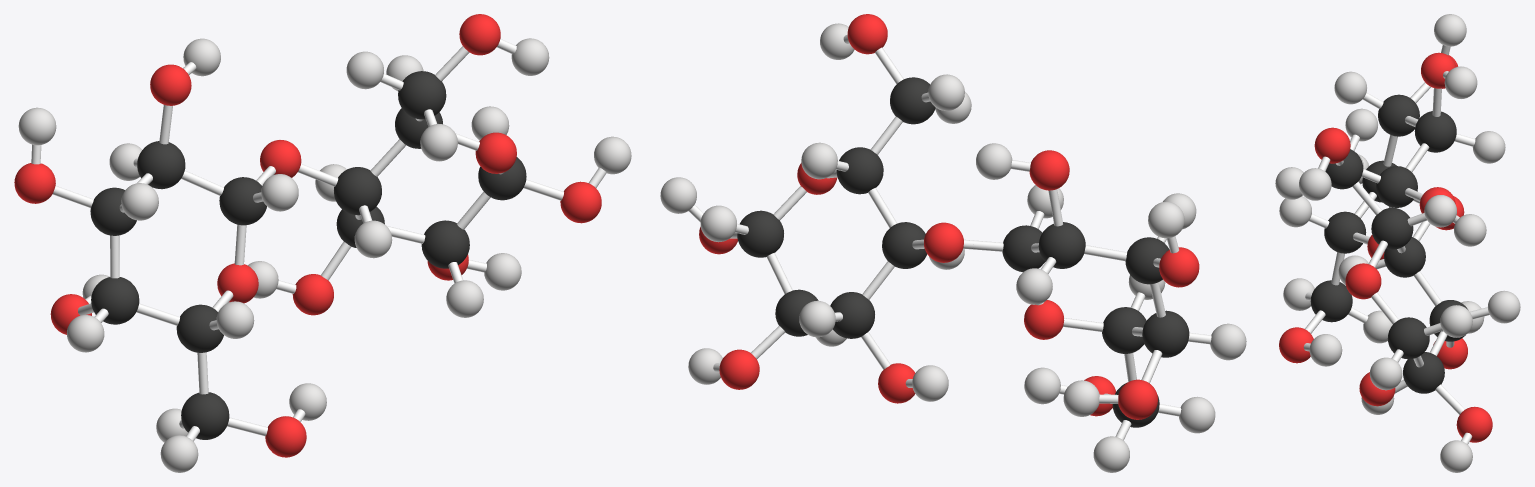
The model's file is rutangend.FBX.
3 views of the same model, side by side, from view 1: azimuth 30°, elevation 25°; view 2: azimuth 150°, elevation 25°; view 3: azimuth 270°, elevation 25° (orthographic). The views are drawn at different scales.
Visible parts, largest first — view 1: Sphere118, Sphere137, Sphere139, Sphere157, Sphere161, Sphere159, Sphere156, Sphere160, Sphere158, Sphere143, Sphere124, Sphere140 (+30 smaller); view 2: Sphere159, Sphere135, Sphere157, Sphere138, Sphere137, Sphere139, Sphere136, Sphere160, Sphere156, Sphere158, Sphere120, Sphere143 (+25 smaller); view 3: Sphere138, Sphere135, Sphere157, Sphere161, Sphere160, Sphere156, Sphere158, Sphere118, Sphere137, Sphere122, Sphere124, Sphere120 (+34 smaller).
Part boxes in pixels (bbox=[...]): Sphere118: bbox=[421, 220, 469, 268]; Sphere137: bbox=[334, 167, 381, 215]; Sphere139: bbox=[398, 71, 446, 119]; Sphere157: bbox=[137, 141, 185, 189]; Sphere161: bbox=[181, 392, 229, 439]; Sphere159: bbox=[91, 277, 139, 324]; Sphere156: bbox=[219, 177, 266, 225]; Sphere160: bbox=[176, 304, 223, 352]; Sphere158: bbox=[90, 187, 136, 235]; Sphere143: bbox=[150, 64, 191, 105]; Sphere124: bbox=[459, 14, 500, 55]; Sphere140: bbox=[265, 416, 306, 457]; Sphere159: bbox=[1142, 310, 1189, 357]; Sphere135: bbox=[737, 210, 783, 257]; Sphere157: bbox=[1038, 222, 1085, 268]; Sphere138: bbox=[836, 147, 883, 194]; Sphere137: bbox=[882, 222, 927, 268]; Sphere139: bbox=[890, 77, 935, 124]; Sphere136: bbox=[830, 292, 874, 338]; Sphere160: bbox=[1102, 307, 1146, 353]; Sphere156: bbox=[1002, 225, 1044, 272]; Sphere158: bbox=[1125, 237, 1169, 284]; Sphere120: bbox=[719, 349, 759, 389]; Sphere143: bbox=[1029, 150, 1069, 190]; Sphere138: bbox=[1371, 207, 1413, 249]; Sphere135: bbox=[1387, 317, 1429, 359]; Sphere157: bbox=[1414, 111, 1456, 152]; Sphere161: bbox=[1310, 280, 1352, 322]; Sphere160: bbox=[1324, 211, 1366, 253]; Sphere156: bbox=[1376, 166, 1417, 207]; Sphere158: bbox=[1378, 94, 1419, 136]; Sphere118: bbox=[1403, 352, 1444, 393]; Sphere137: bbox=[1384, 237, 1425, 277]; Sphere122: bbox=[1345, 263, 1381, 299]; Sphere124: bbox=[1314, 127, 1350, 163]; Sphere120: bbox=[1456, 406, 1492, 442].
Size of the model in its own units: 213 by 134 by 89.83.
1 material, 1 textured.
